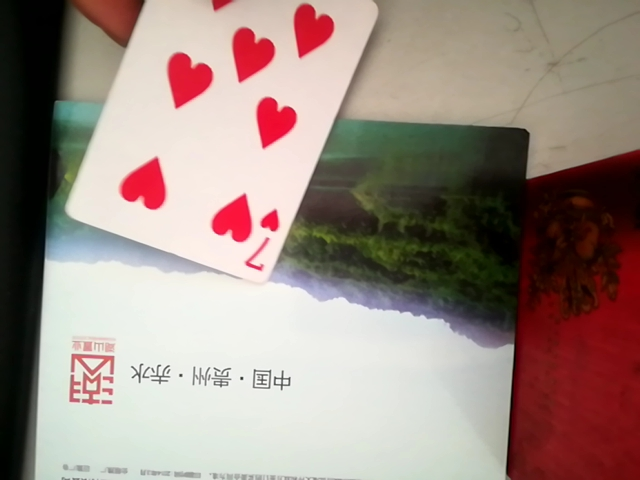hx 7: (65, 3, 387, 280)
